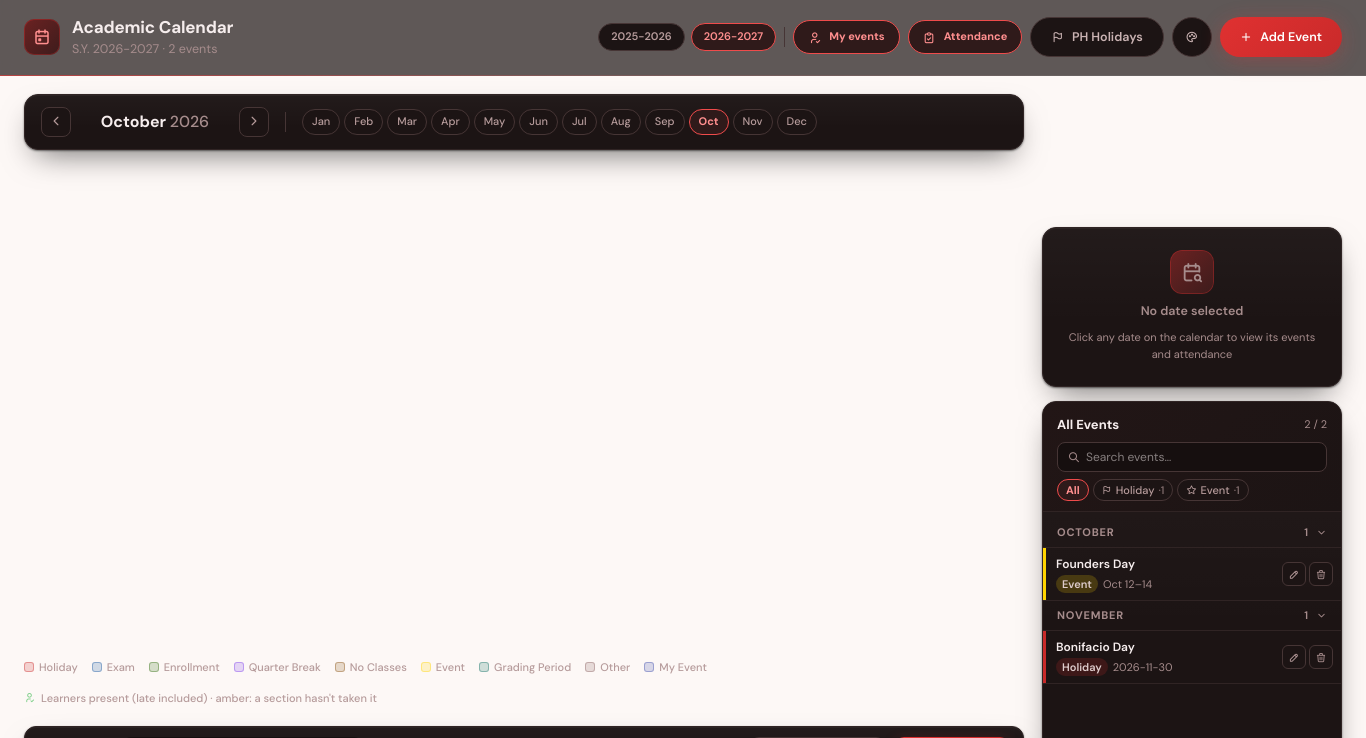
Test: AcademicCalendarPage — dark mode › opens the event colours window
What coordinates should you click on to do the following:
click the button named "Customize event colors"
I would click on:
 (1192, 37)
Its box is [1172,17,1212,57].
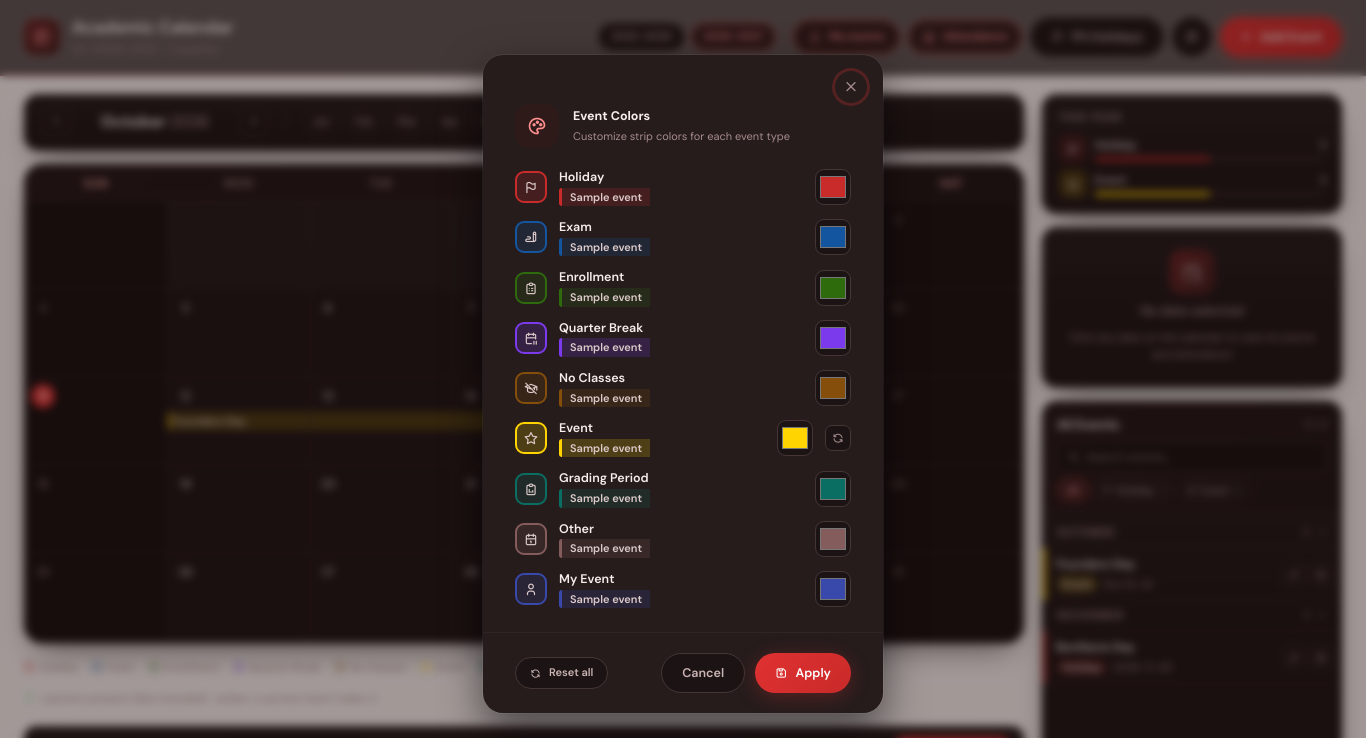
Now the heading "Event Colors" is shown, box [573,108,650,124]
Now the 1st text "Sample event" is shown, box [559,188,650,206]
